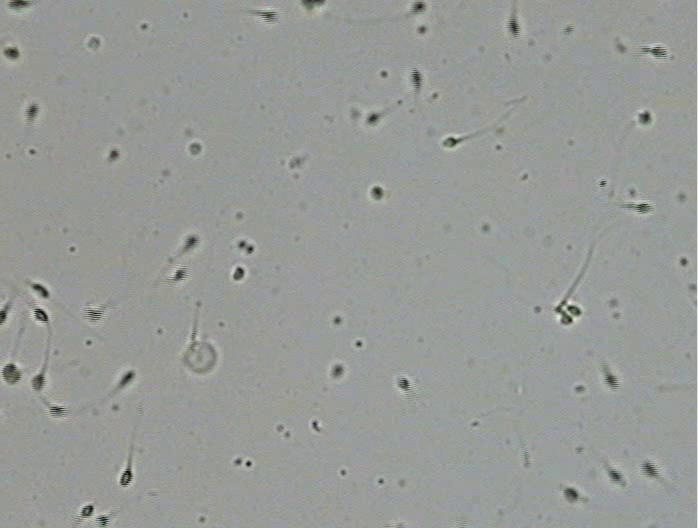Impurity: (183, 341, 217, 374), (88, 38, 100, 48)
S: (554, 303, 582, 324), (1, 363, 22, 385), (642, 43, 667, 59), (409, 68, 423, 89), (640, 462, 658, 478), (237, 239, 255, 255), (83, 307, 103, 321), (603, 374, 620, 390), (507, 17, 520, 37), (118, 371, 134, 387), (607, 467, 623, 483), (32, 308, 49, 323), (25, 102, 39, 120), (301, 1, 326, 11), (259, 10, 278, 23), (32, 284, 49, 298), (120, 469, 133, 487), (563, 487, 578, 502), (31, 375, 45, 391), (49, 406, 67, 418), (184, 234, 199, 248), (173, 267, 188, 281), (7, 1, 30, 10), (638, 111, 652, 124), (233, 266, 245, 281), (635, 203, 653, 213), (4, 48, 20, 59), (398, 377, 410, 391), (81, 505, 94, 517), (371, 186, 383, 199), (411, 2, 425, 13), (367, 112, 379, 124), (443, 137, 457, 147), (108, 149, 120, 160), (190, 143, 202, 154), (95, 516, 108, 526), (332, 365, 343, 376), (1, 308, 7, 324)
